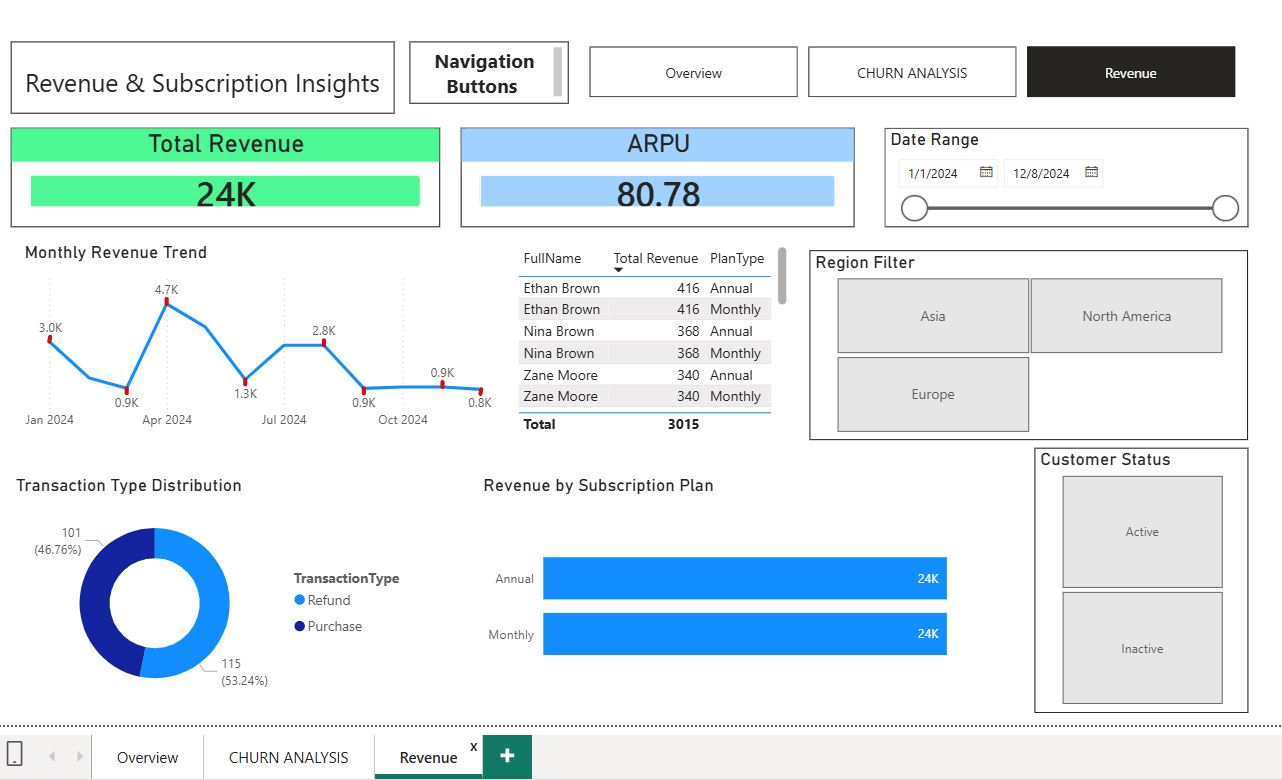

Layout of this report page (visuals, bound fields, positions):
{"tool":"powerbi","page":{"name":"Revenue","canvas":[1280,720],"ordinal":2},"visuals":[{"type":"cardVisual","title":"Total Revenue","fields":{"Data":["Churn.Total Revenue"]},"box":[52.1,144.1,414.4,96.1],"z":0},{"type":"tableEx","fields":{"Values":["Customers.FullName","Churn.Total Revenue","Subscriptions.PlanType"]},"box":[535.2,253.9,270.3,190.7],"z":1000},{"type":"donutChart","title":"Transaction Type Distribution","fields":{"Y":["CountNonNull(Transactions.TransactionID)"],"Category":["Transactions.TransactionType"]},"box":[52.1,477.5,395.2,230.5],"z":2000},{"type":"lineChart","title":"Monthly Revenue Trend","fields":{"Y":["Churn.Total Revenue"],"Category":["Transactions.TransactionDate.Variation.Date Hierarchy.Year","Transactions.TransactionDate.Variation.Date Hierarchy.Month"]},"box":[60.4,253.9,474.8,190.7],"z":3000},{"type":"barChart","title":"Revenue by Subscription Plan","fields":{"Y":["Churn.Total Revenue"],"Category":["Subscriptions.PlanType"]},"box":[503.6,477.5,484.4,230.5],"z":4000},{"type":"slicer","title":"Region Filter","fields":{"Values":["Customers.Region"]},"box":[822.8,261.8,423.5,183.4],"z":5000},{"type":"cardVisual","title":"ARPU","fields":{"Data":["Churn.ARPU"]},"box":[485.8,144.1,380.1,96.1],"z":6000},{"type":"slicer","title":"Date Range","fields":{"Values":["Transactions.TransactionDate"]},"box":[894.7,144.1,351.3,96.1],"z":7000},{"type":"slicer","title":"Customer Status","fields":{"Values":["Customers.Status"]},"box":[1040,452.4,206.3,255.8],"z":8000},{"type":"textbox","box":[52.1,60.4,370.5,70],"z":9000},{"type":"textbox","box":[436.4,60.4,153.7,60.4],"z":10000},{"type":"pageNavigator","box":[610.5,65.1,623.7,49.5],"z":11000}]}

Visuals, with their boxes on the page's 1280x720 design canvas (x1, y1, x2, y2). These are canvas units, not pixel positions in the 1282x780 screenshot, which may show the page scaled, cropped or inside an application window:
"Total Revenue" cardVisual: box=[52, 144, 466, 240]
tableEx - Customers.FullName x Churn.Total Revenue: box=[535, 254, 806, 445]
"Transaction Type Distribution" donutChart: box=[52, 478, 447, 708]
"Monthly Revenue Trend" lineChart: box=[60, 254, 535, 445]
"Revenue by Subscription Plan" barChart: box=[504, 478, 988, 708]
"Region Filter" slicer: box=[823, 262, 1246, 445]
"ARPU" cardVisual: box=[486, 144, 866, 240]
"Date Range" slicer: box=[895, 144, 1246, 240]
"Customer Status" slicer: box=[1040, 452, 1246, 708]
textbox: box=[52, 60, 423, 130]
textbox: box=[436, 60, 590, 121]
pageNavigator: box=[610, 65, 1234, 115]
